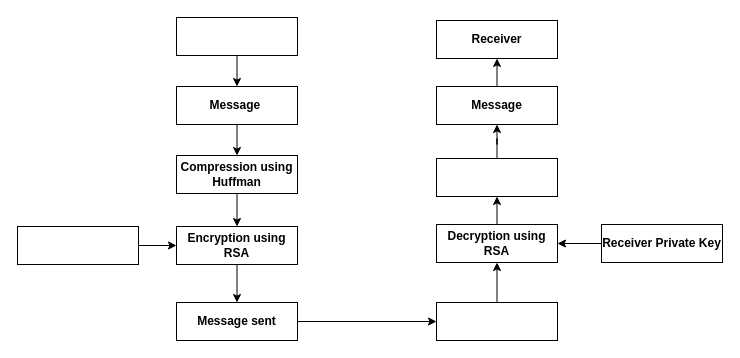
Image size: 740x358. Some labels were removed from this diagram. The box of each missing label's shape, as (x1, y1, x2, y2) in pixels:
Decompression using Huffman: (436, 158, 558, 196)
Message Received: (436, 302, 558, 340)
Receiver Public Key: (16, 226, 138, 264)
Sender: (176, 16, 298, 56)
